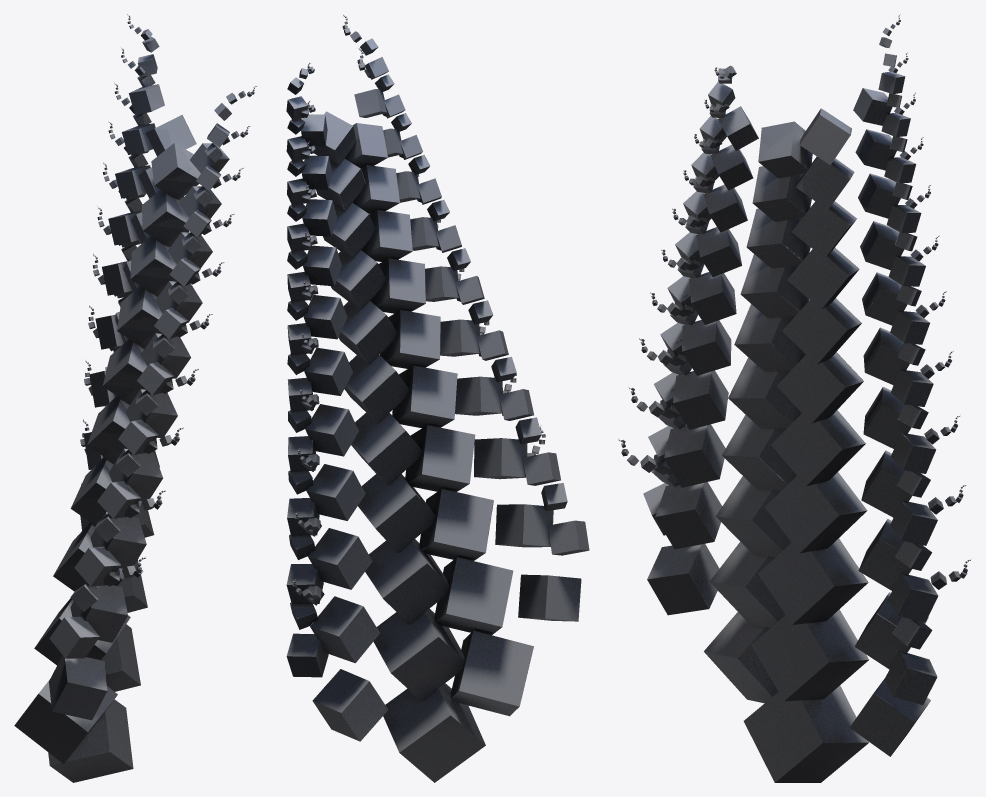
Rendered from fractal_1.glb.
The picture shows the model from 3 angles, left to right: view 1: azimuth 30°, elevation 25°; view 2: azimuth 150°, elevation 25°; view 3: azimuth 270°, elevation 25°; orthographic projection. The views are drawn at different scales.
Bounding box in the file's own units: 0.7828 × 2.43 × 0.9525.
Materials: 1 (1 with a texture image).
